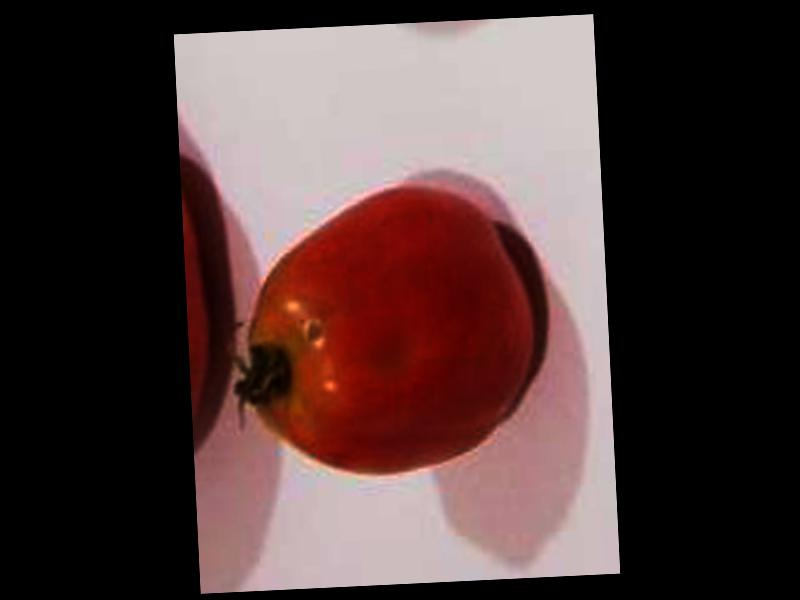Tomato: (237, 182, 534, 478)
